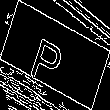P_NE: (35, 25, 75, 85)
